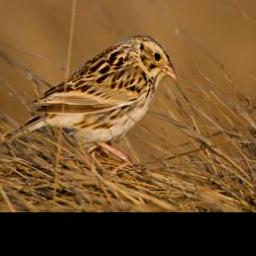Sparrow: (2, 34, 181, 180)
